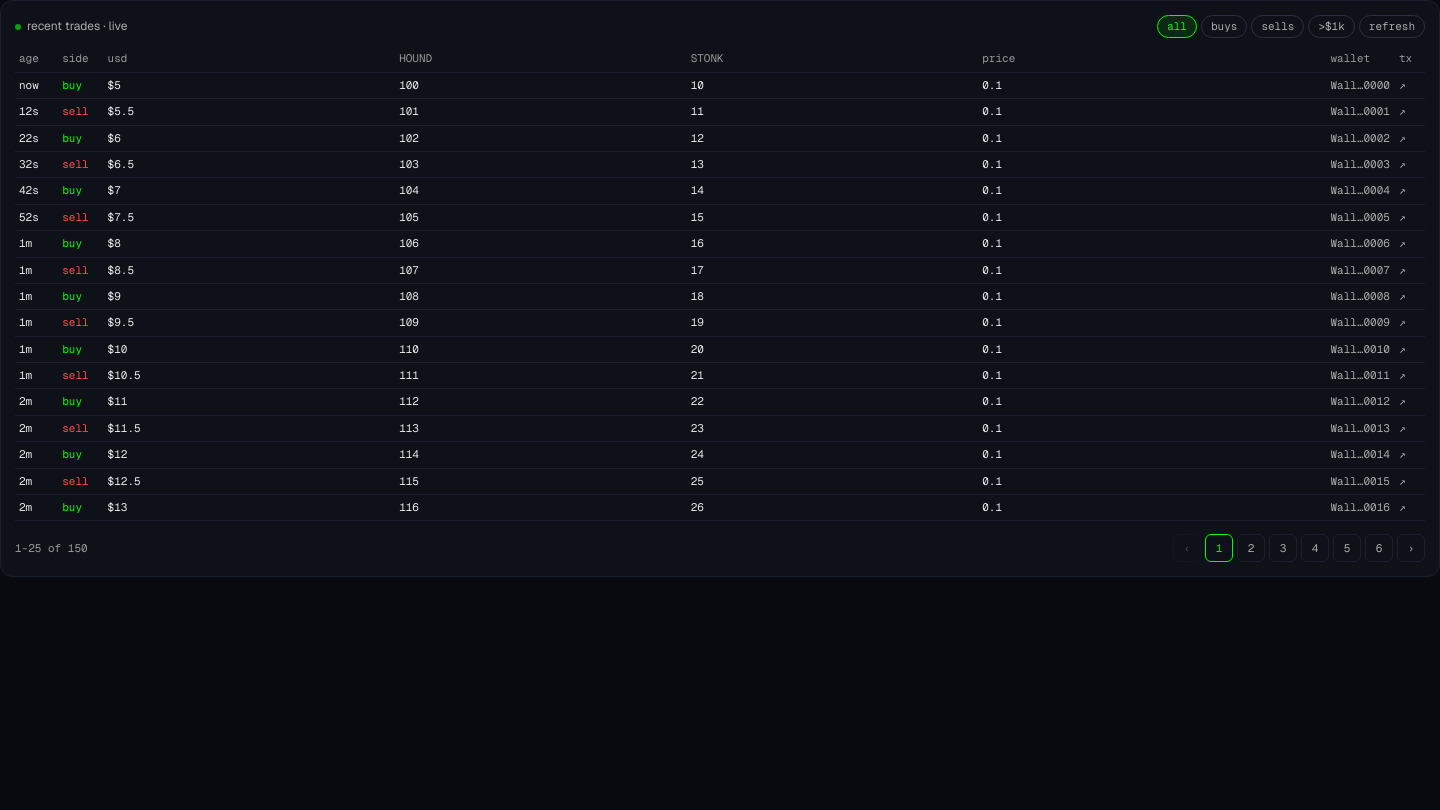
LiveTransactions › pages 25 at a time over the newest 150 with a pager
Expected: the text with test id "trades-page-range" reads "1-25 of 150", left=15, top=541, right=88, bottom=556
Expected: the button named "previous page" is disabled, left=1173, top=534, right=1201, bottom=562
Click the button "6" at x=1379, y=548, box left=1365, top=534, right=1393, bottom=562
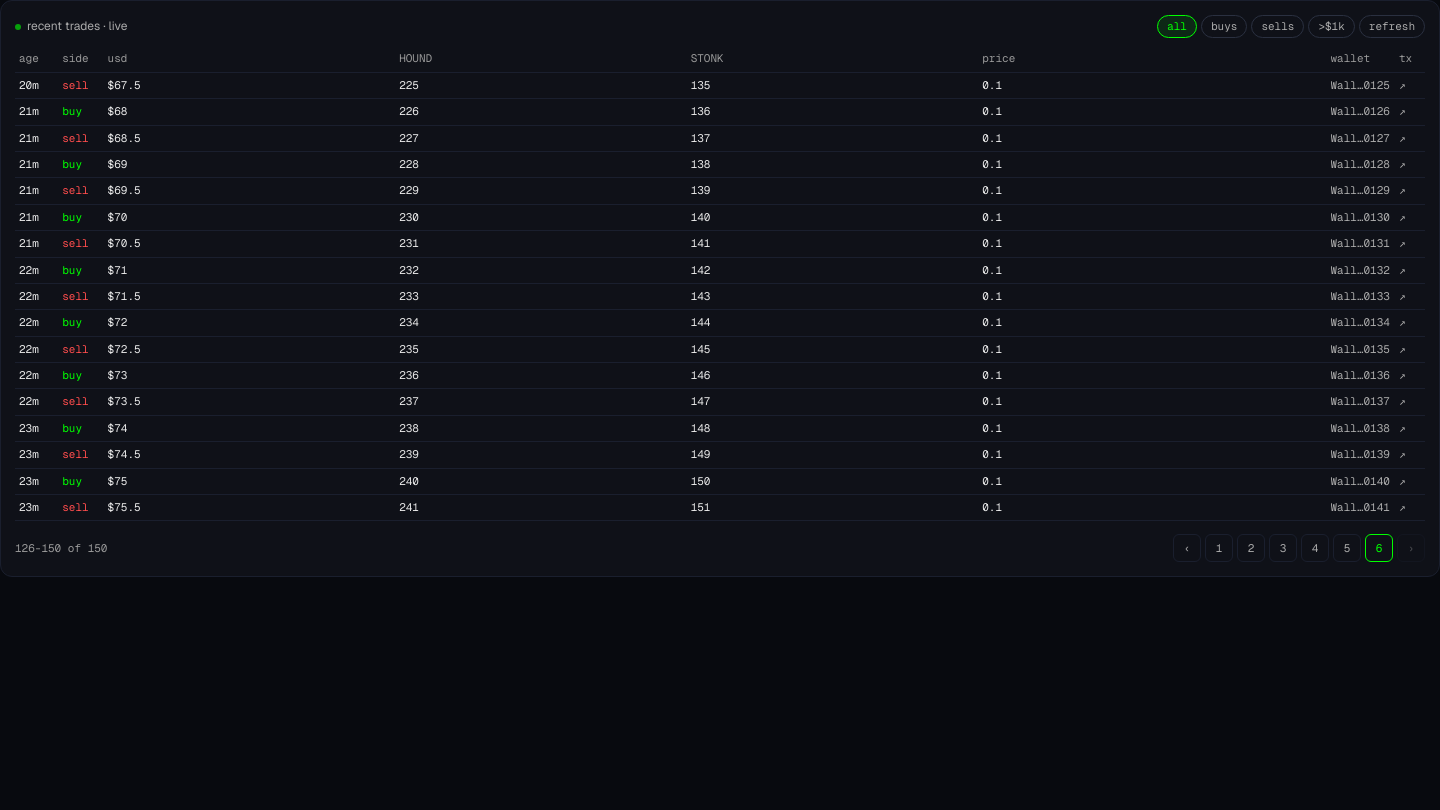
Expected: the button named "next page" is disabled, left=1397, top=534, right=1425, bottom=562
Result: the text with test id "trades-page-range" reads "126-150 of 150" at left=15, top=541, right=108, bottom=556
